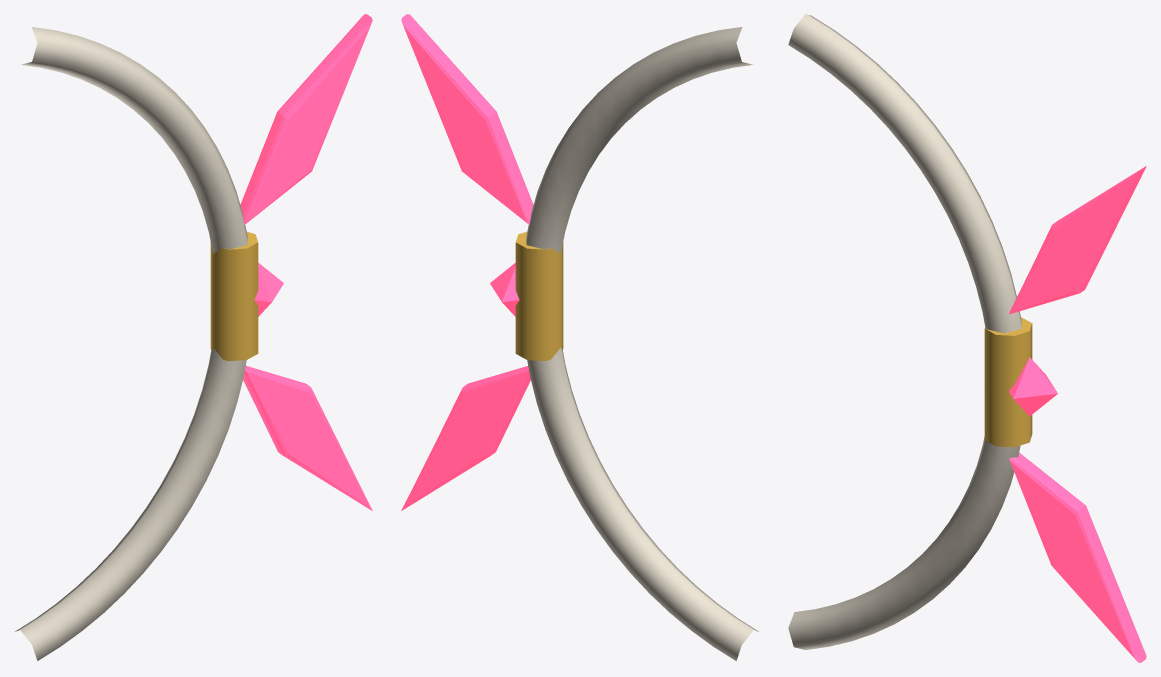
The model's file is bow_f3_1a33365d.glb.
3 renders of one model, left to right at view 1: azimuth 30°, elevation 25°; view 2: azimuth 150°, elevation 25°; view 3: azimuth 330°, elevation 25°, orthographic.
Visible parts, largest first — view 1: m0_ow80_, m2_gm130_, m1_gm130_, m3_ow80_, m4_gm160_; view 2: m0_ow80_, m2_gm130_, m1_gm130_, m3_ow80_, m4_gm160_; view 3: m0_ow80_, m1_gm130_, m2_gm130_, m3_ow80_, m4_gm160_.
Boxes of the visible parts, <box> form: m0_ow80_: <box>15,27,247,660</box>; m2_gm130_: <box>240,14,372,224</box>; m1_gm130_: <box>243,366,372,510</box>; m3_ow80_: <box>210,231,258,360</box>; m4_gm160_: <box>254,263,283,316</box>; m0_ow80_: <box>526,27,758,660</box>; m2_gm130_: <box>401,14,533,224</box>; m1_gm130_: <box>401,366,530,510</box>; m3_ow80_: <box>515,231,563,360</box>; m4_gm160_: <box>490,263,519,316</box>; m0_ow80_: <box>788,14,1021,649</box>; m1_gm130_: <box>1009,453,1146,662</box>; m2_gm130_: <box>1009,166,1146,313</box>; m3_ow80_: <box>984,317,1032,447</box>; m4_gm160_: <box>1008,357,1057,416</box>.
Bounding box in the file's own units: 0.9831 × 1.71 × 0.16.
